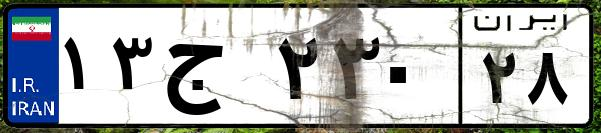0: (385, 28, 445, 110)
1: (57, 26, 110, 100)
2: (270, 28, 330, 110), (475, 38, 525, 113)
3: (330, 28, 385, 110), (110, 28, 158, 98)
8: (525, 38, 570, 115)
ج: (158, 20, 270, 120)
